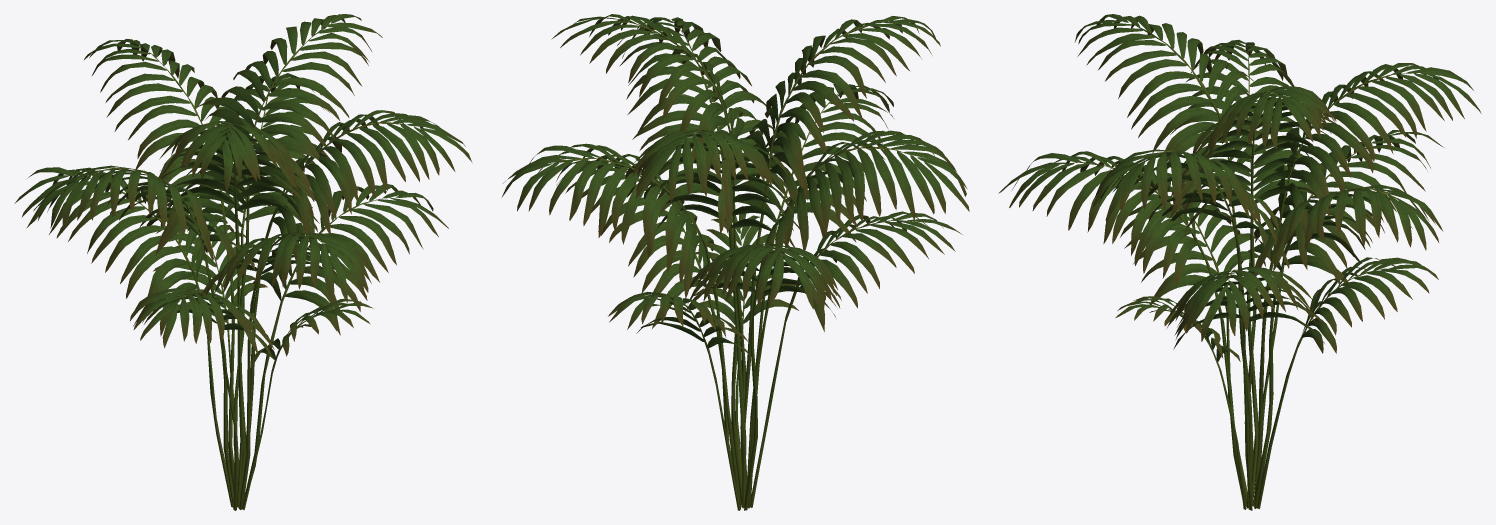
The model's file is howea_f_a001_lod1.gltf.
The picture shows the model from 3 angles, left to right: view 1: azimuth 30°, elevation 25°; view 2: azimuth 150°, elevation 25°; view 3: azimuth 270°, elevation 25°; orthographic projection. The views are drawn at different scales.
Parts seen in each view (by area): view 1: Howea_f__A001; view 2: Howea_f__A001; view 3: Howea_f__A001.
Part boxes in pixels (left/top/right/bottom): Howea_f__A001: left=14, top=14, right=472, bottom=510; Howea_f__A001: left=502, top=14, right=969, bottom=510; Howea_f__A001: left=998, top=14, right=1481, bottom=510.
Bounding box in the file's own units: 3.35 × 3.6 × 3.39.
2 materials, 2 textured.
